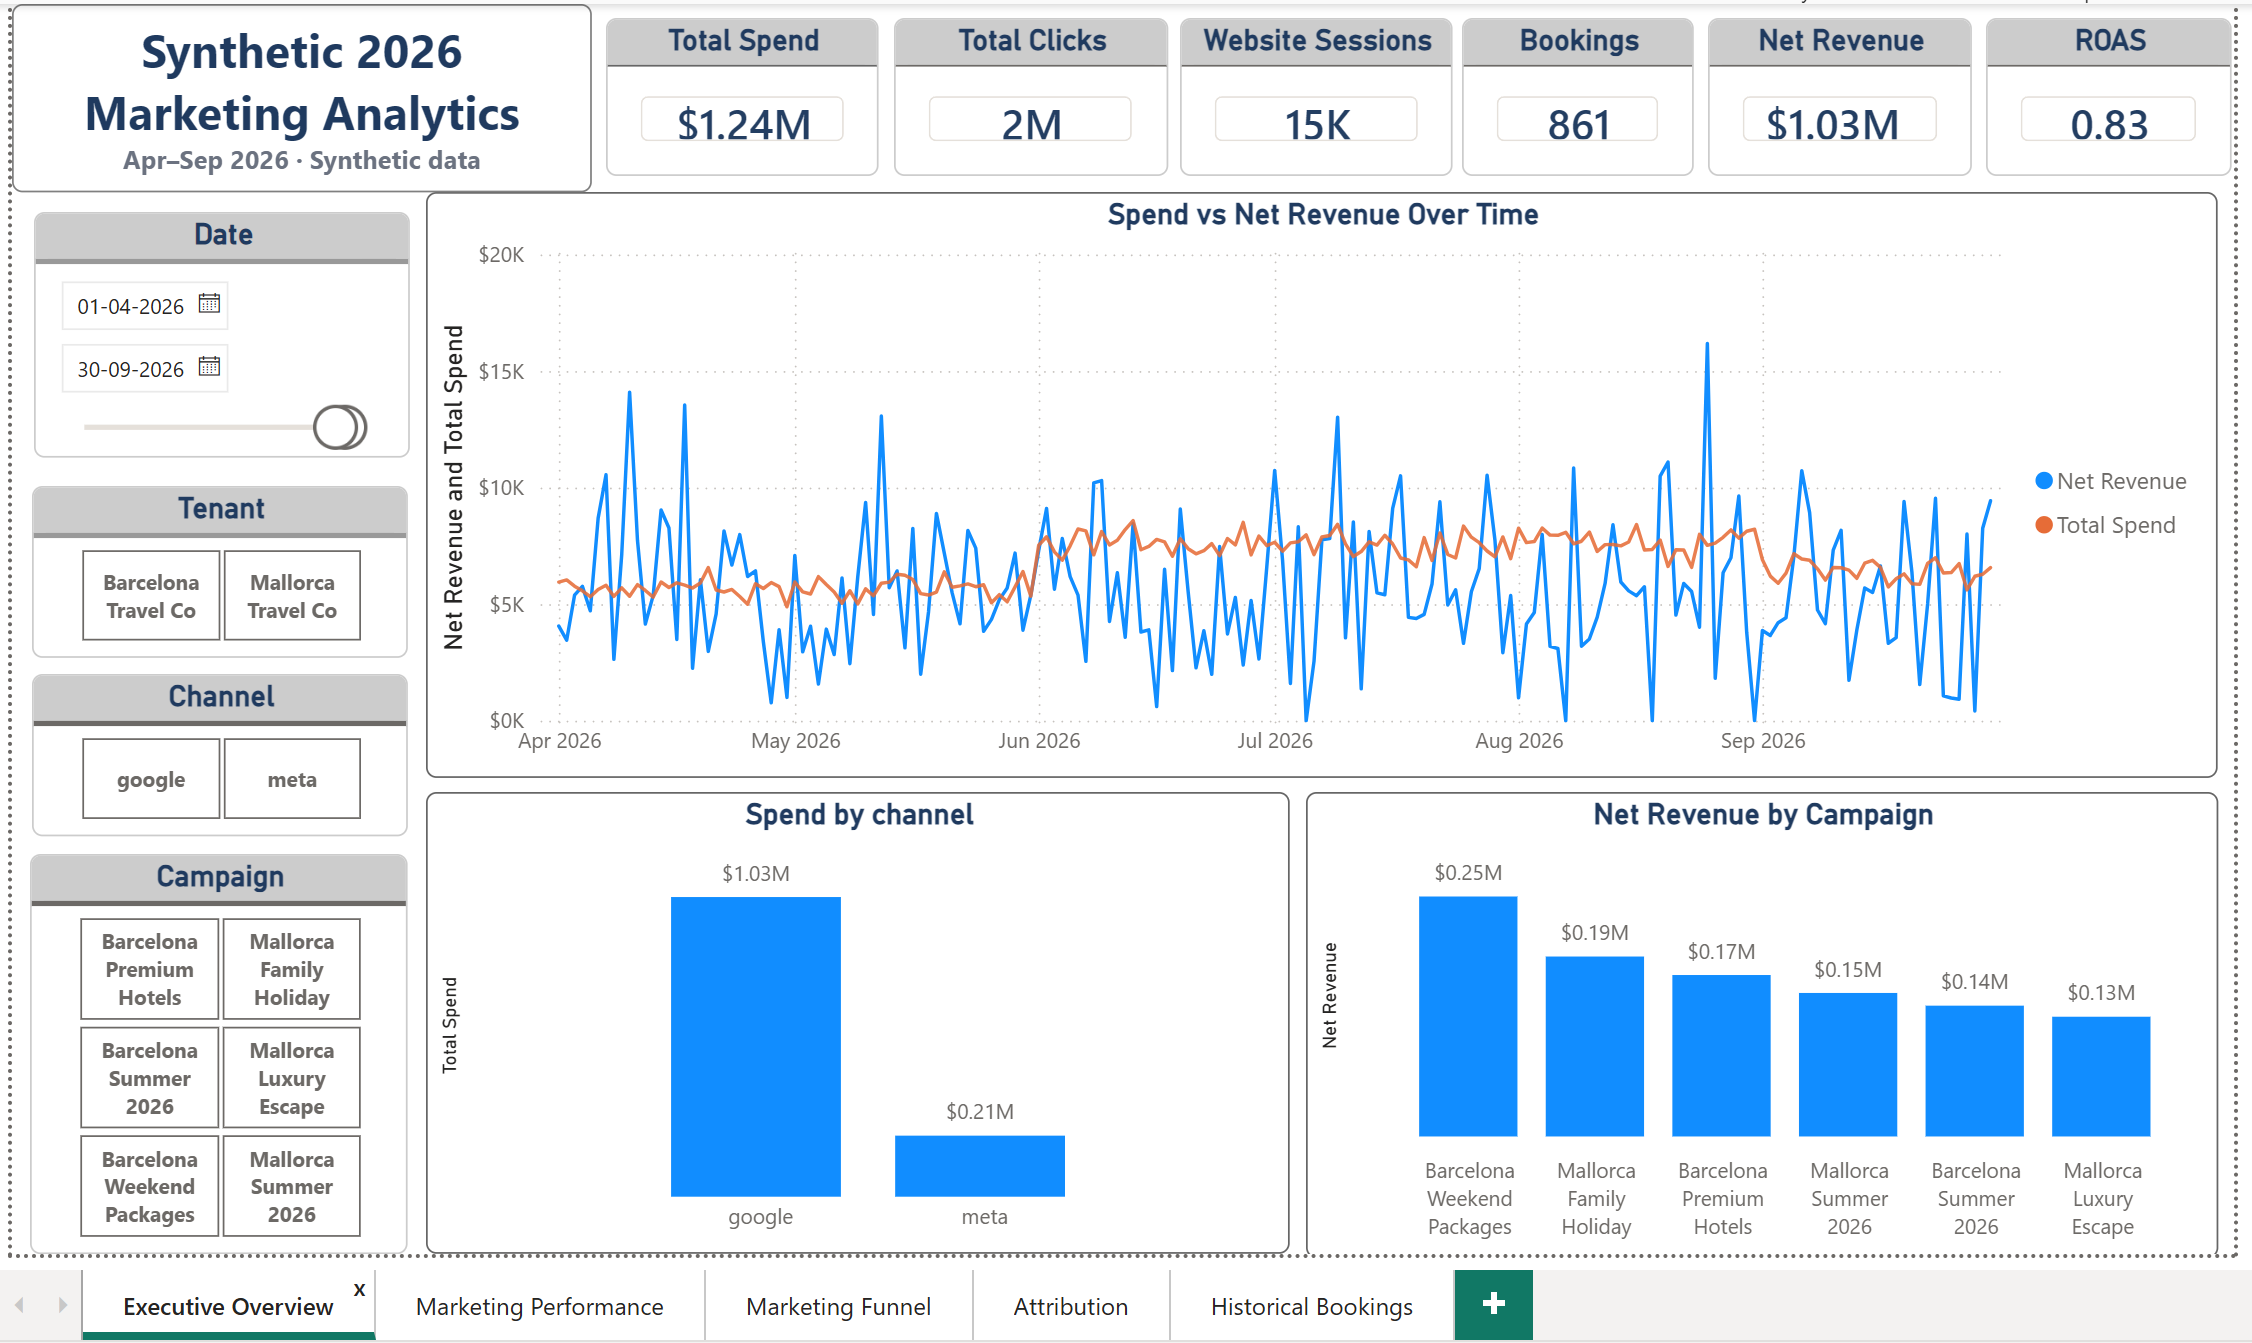

The page's visual inventory and layout, read from the dashboard file:
{"tool":"powerbi","page":{"name":"Executive Overview","canvas":[1280,720],"ordinal":0},"visuals":[{"type":"cardVisual","title":"Total Spend","fields":{"Data":["_Measures.Total Spend"]},"box":[342.1,8.1,157,91],"z":0},{"type":"cardVisual","title":"Website Sessions","fields":{"Data":["_Measures.Website Sessions"]},"box":[672.8,8.1,157,91],"z":1000},{"type":"cardVisual","title":"Total Clicks","fields":{"Data":["_Measures.Total Clicks"]},"box":[508,8.1,157.8,91],"z":2000},{"type":"cardVisual","title":"Net Revenue","fields":{"Data":["_Measures.Net Revenue"]},"box":[976.9,8.1,171.6,91],"z":3000},{"type":"cardVisual","title":"Bookings","fields":{"Data":["_Measures.Bookings"]},"box":[835.2,8.1,133.6,91],"z":4000},{"type":"cardVisual","title":"ROAS","fields":{"Data":["_Measures.ROAS"]},"box":[1148.5,8.1,131.3,91],"z":5000},{"type":"lineChart","title":"Spend vs Net Revenue Over Time","fields":{"Y":["_Measures.Net Revenue","_Measures.Total Spend"],"Category":["dim_date.date_day"]},"box":[238.5,108.3,1032.2,337.5],"z":6000},{"type":"clusteredColumnChart","title":"Spend by channel","fields":{"Category":["dim_campaign.channel"],"Y":["_Measures.Total Spend"]},"box":[238.5,453.9,497.7,266.1],"z":7000},{"type":"clusteredColumnChart","title":"Net Revenue by Campaign","fields":{"Y":["_Measures.Net Revenue"],"Category":["dim_campaign.campaign_name"]},"box":[745.3,453.9,525.3,268.4],"z":8000},{"type":"slicer","title":"Date","fields":{"Values":["dim_date.date_day"]},"box":[12.7,119.8,216.6,141.7],"z":9000},{"type":"slicer","title":"Tenant","fields":{"Values":["dim_tenant.tenant_name"]},"box":[11.5,277.6,216.6,99.1],"z":10000},{"type":"slicer","title":"Campaign","fields":{"Values":["dim_campaign.campaign_name"]},"box":[10.4,489.6,217.7,230.4],"z":11000},{"type":"slicer","title":"Channel","fields":{"Values":["dim_campaign.channel"]},"box":[11.5,385.9,216.6,93.3],"z":12000},{"type":"textbox","box":[0,0,334.1,108.3],"z":13000}]}

Visuals, with their boxes on the page's 1280x720 design canvas (x1, y1, x2, y2). These are canvas units, not pixel positions in the 2252x1343 screenshot, which may show the page scaled, cropped or inside an application window:
"Total Spend" cardVisual: l=342, t=8, r=499, b=99
"Website Sessions" cardVisual: l=673, t=8, r=830, b=99
"Total Clicks" cardVisual: l=508, t=8, r=666, b=99
"Net Revenue" cardVisual: l=977, t=8, r=1148, b=99
"Bookings" cardVisual: l=835, t=8, r=969, b=99
"ROAS" cardVisual: l=1148, t=8, r=1280, b=99
"Spend vs Net Revenue Over Time" lineChart: l=238, t=108, r=1271, b=446
"Spend by channel" clusteredColumnChart: l=238, t=454, r=736, b=720
"Net Revenue by Campaign" clusteredColumnChart: l=745, t=454, r=1271, b=722
"Date" slicer: l=13, t=120, r=229, b=262
"Tenant" slicer: l=12, t=278, r=228, b=377
"Campaign" slicer: l=10, t=490, r=228, b=720
"Channel" slicer: l=12, t=386, r=228, b=479
textbox: l=0, t=0, r=334, b=108
